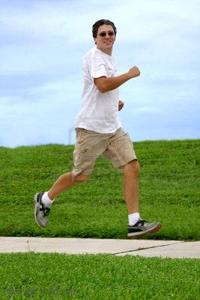person: (33, 16, 162, 240)
